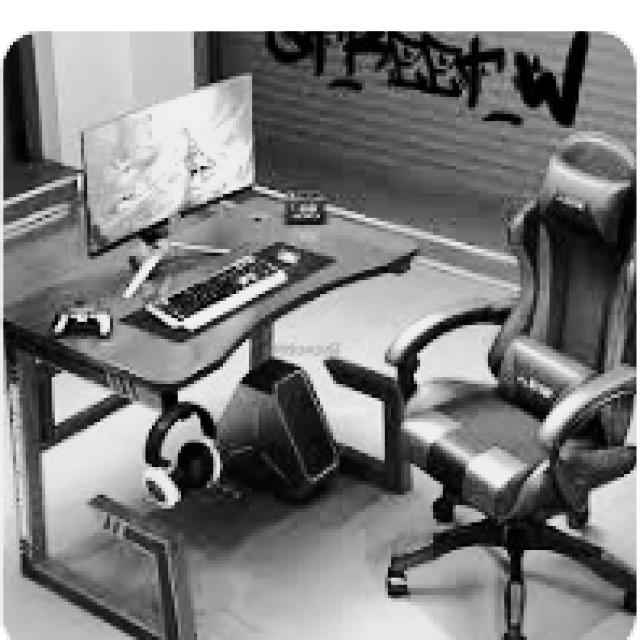book: (323, 128, 634, 637)
table: (0, 187, 423, 640)
